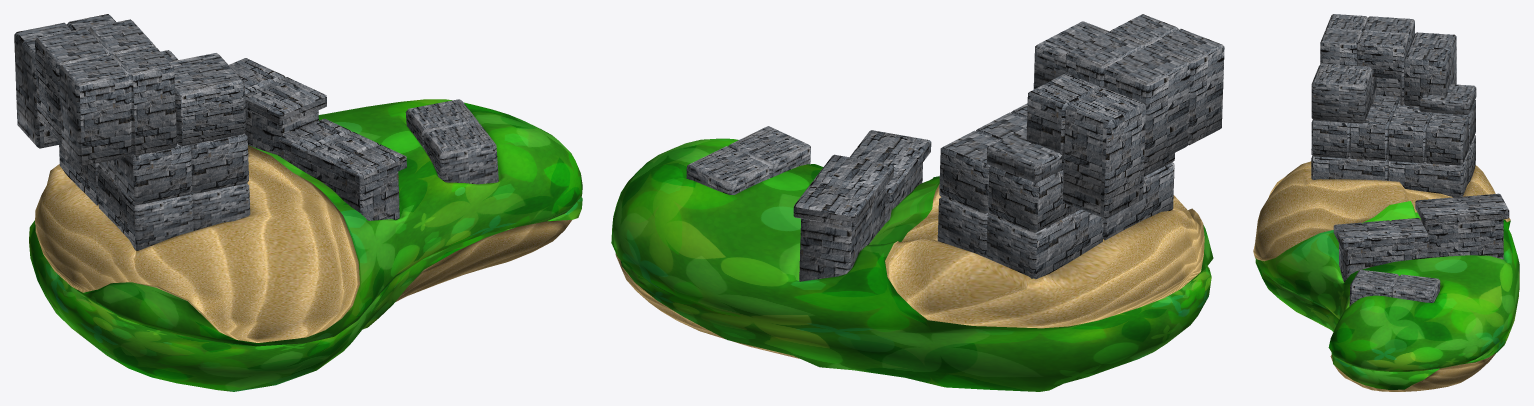
File: bean_planet.obj
The picture shows the model from 3 angles, left to right: view 1: azimuth 30°, elevation 25°; view 2: azimuth 150°, elevation 25°; view 3: azimuth 270°, elevation 25°; orthographic projection. The views are drawn at different scales.
Visible parts, largest first — view 1: n1b0_ID29, n0b1_ID20, n2b2_ID38; view 2: n1b0_ID29, n0b1_ID20, n2b2_ID38; view 3: n1b0_ID29, n0b1_ID20, n2b2_ID38.
Part boxes in pixels (x1,y1,x2,y2): n1b0_ID29: (14, 14, 498, 250); n0b1_ID20: (29, 99, 582, 391); n2b2_ID38: (35, 145, 571, 342); n1b0_ID29: (686, 14, 1224, 281); n0b1_ID20: (611, 138, 1213, 391); n2b2_ID38: (615, 184, 1204, 358); n1b0_ID29: (1311, 14, 1509, 306); n0b1_ID20: (1255, 201, 1519, 389); n2b2_ID38: (1253, 161, 1510, 391).
Bounding box in the file's own units: 33.24 × 20 × 20.42.
3 materials, 3 textured.
